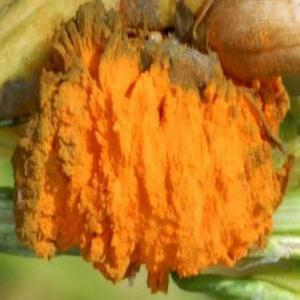Leaf_Scald: (164, 38, 247, 274), (75, 35, 155, 260), (25, 75, 62, 250)
